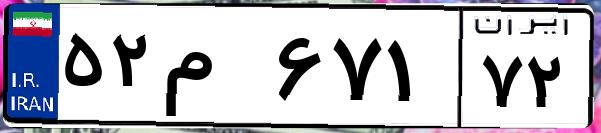1: (385, 28, 445, 110)
2: (525, 38, 570, 115), (110, 28, 158, 98)
5: (57, 26, 110, 100)
6: (270, 28, 330, 110)
7: (330, 28, 385, 110), (475, 38, 525, 113)
م: (158, 20, 270, 120)
